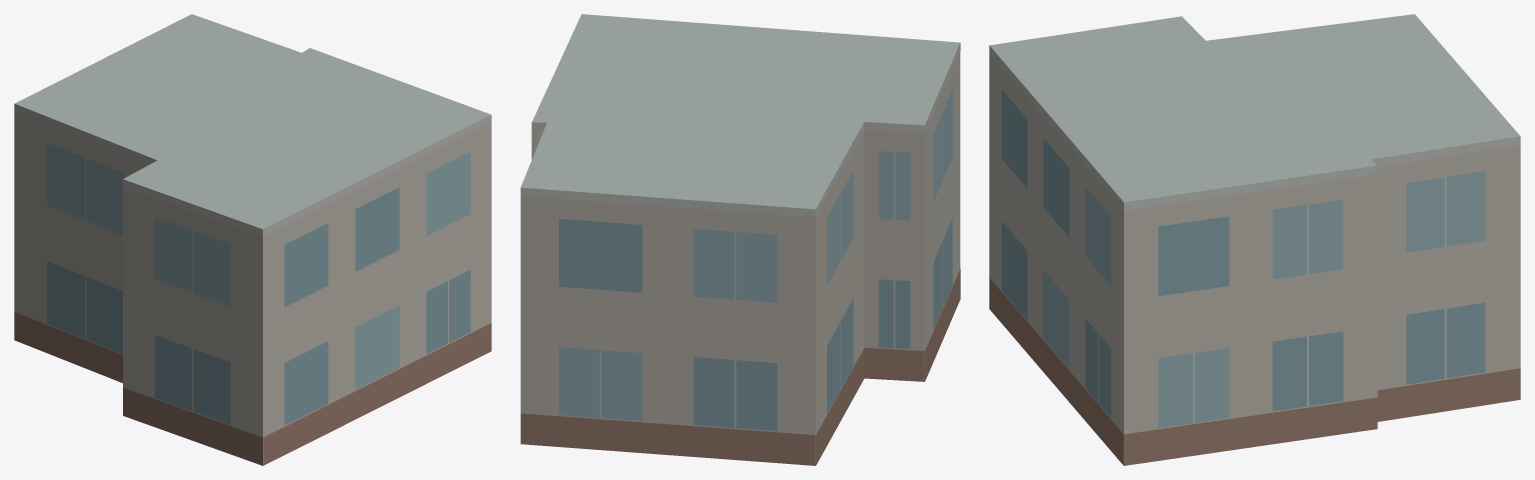
The model's file is survey-upis-32662700.glb.
The picture shows the model from 3 angles, left to right: view 1: azimuth 30°, elevation 25°; view 2: azimuth 150°, elevation 25°; view 3: azimuth 270°, elevation 25°; orthographic projection. The views are drawn at different scales.
Parts seen in each view (by area): view 1: survey-upis-32662700.tmp; view 2: survey-upis-32662700.tmp; view 3: survey-upis-32662700.tmp.
Part boxes in pixels (x1=…): survey-upis-32662700.tmp: x1=14, y1=14, x2=491, y2=465; survey-upis-32662700.tmp: x1=520, y1=14, x2=960, y2=465; survey-upis-32662700.tmp: x1=989, y1=14, x2=1520, y2=465.
Size of the model in its own units: 11.66 by 7.6 by 13.9.
